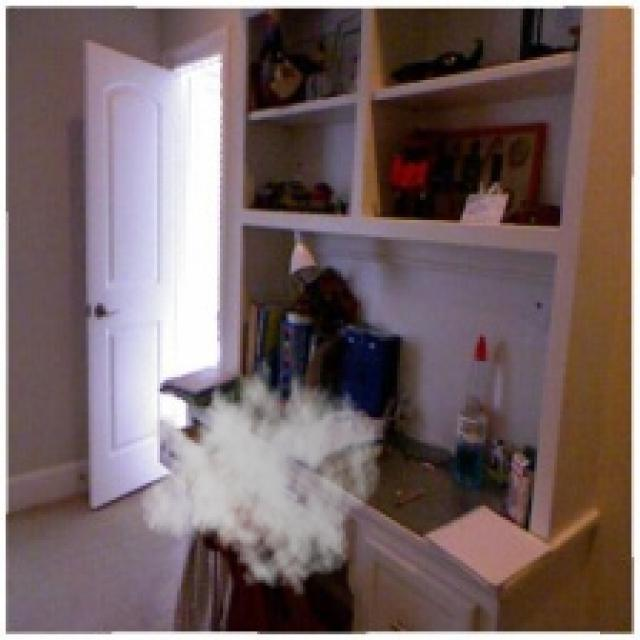Smoke: (140, 342, 383, 598)
